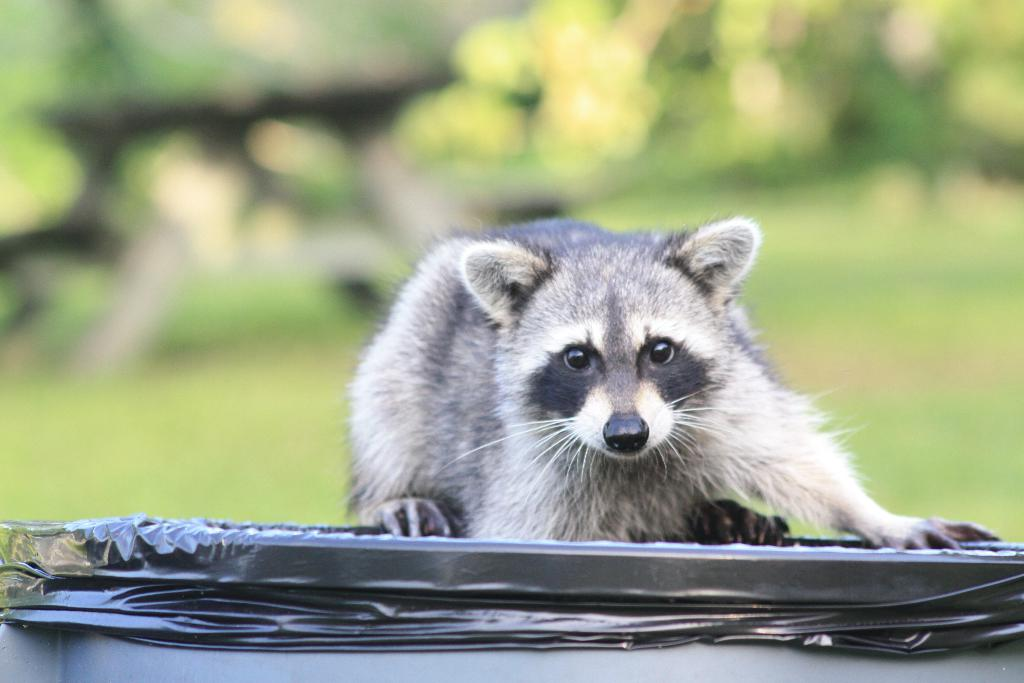raccoon: (350, 214, 998, 548)
